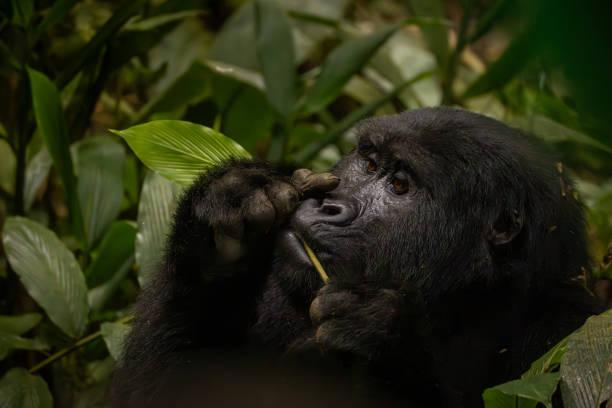goriile_montagne: (120, 79, 581, 403)
